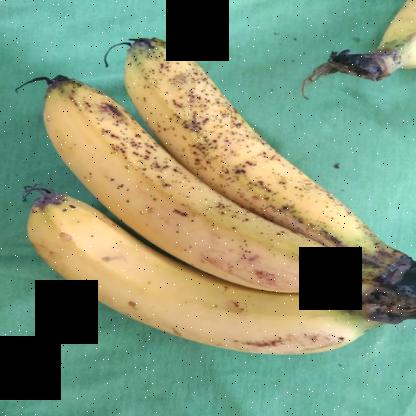freshripe: (13, 189, 365, 360)
ripe: (33, 69, 343, 292), (114, 29, 382, 256)
